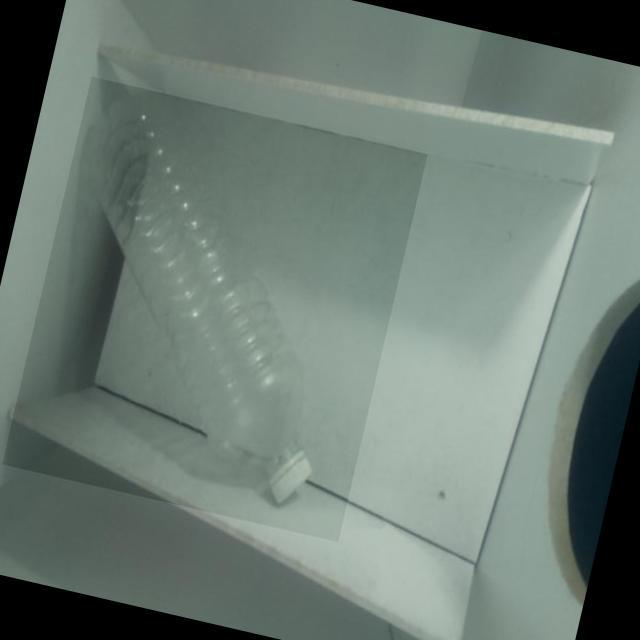good: (0, 74, 427, 540)
